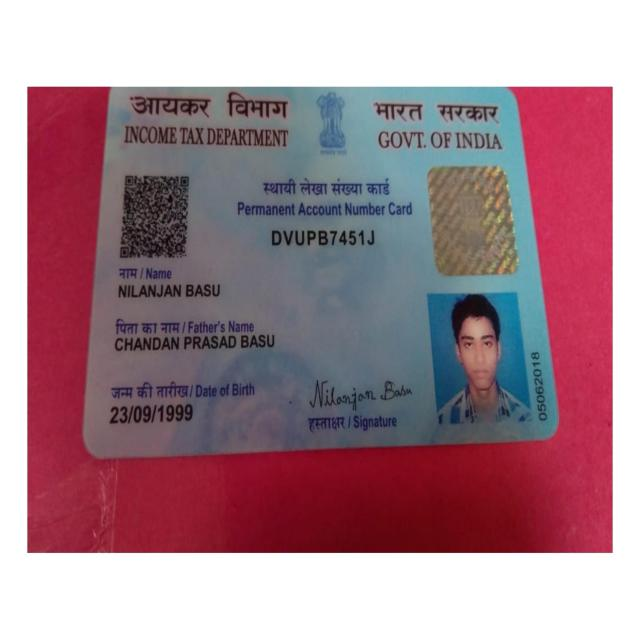pan_card: (88, 89, 559, 453)
